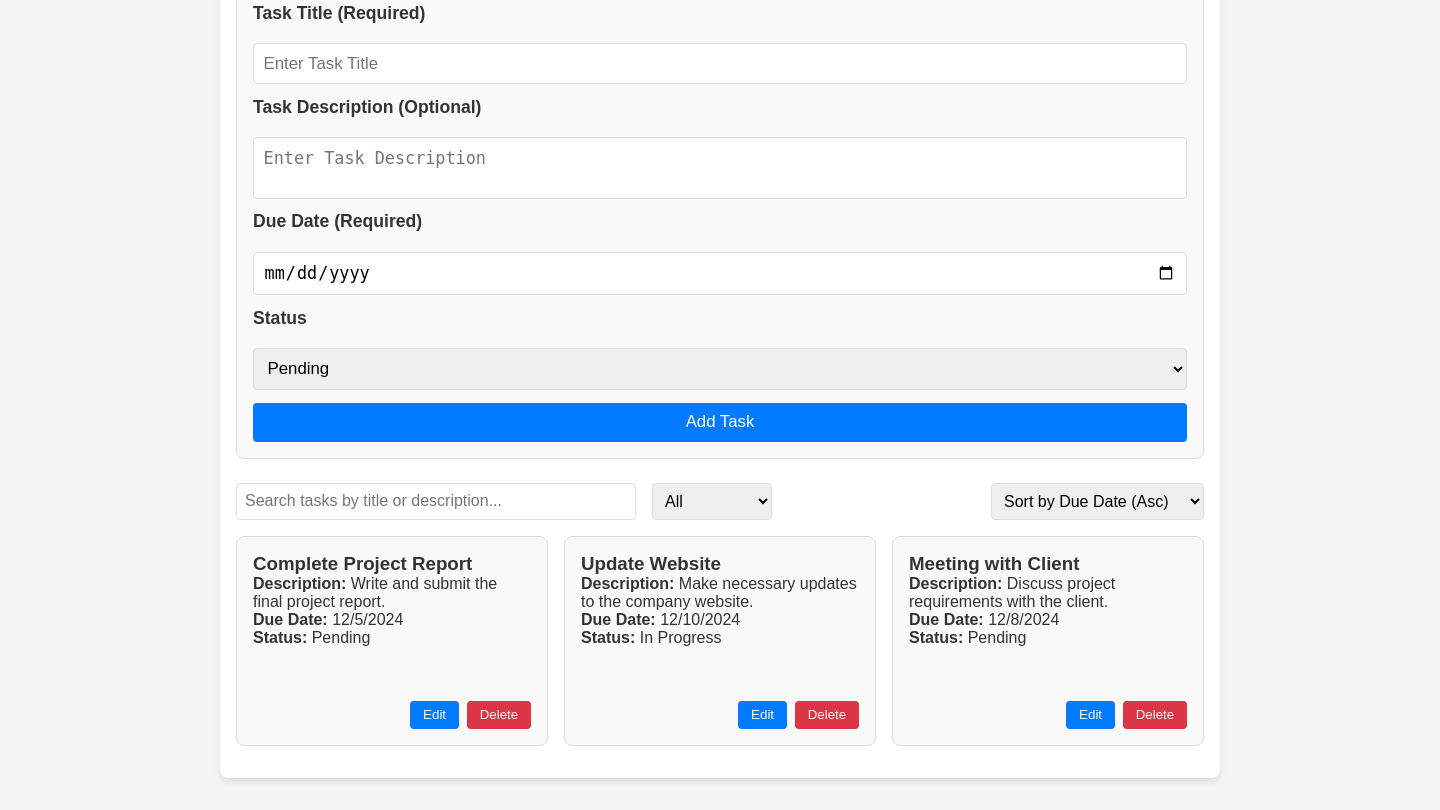
App Component › opens confirmation modal on task delete
(page scrolled)
Click the button "Delete" below "12/5/2024": click(499, 715) [467,701,531,729]
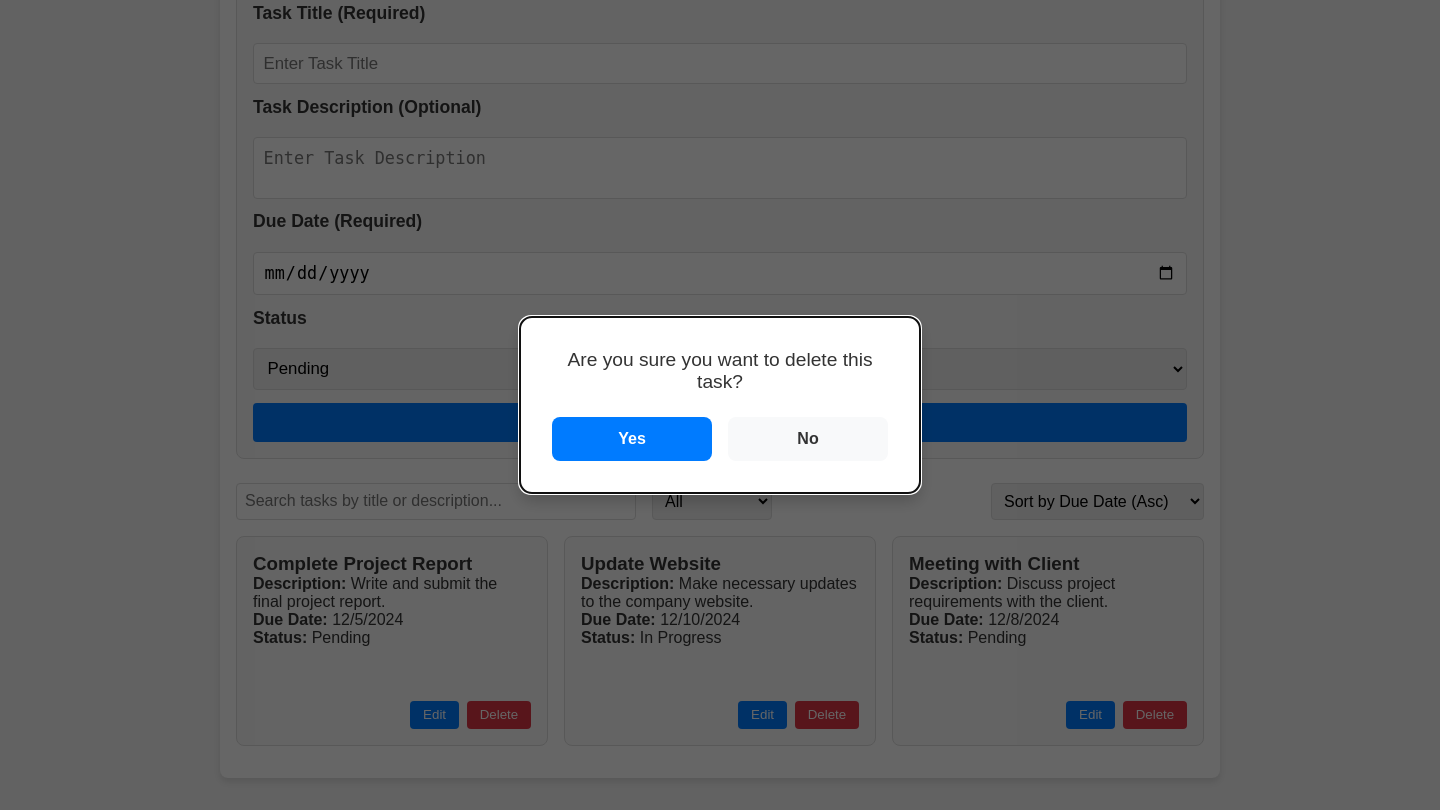
expect the text "Are you sure you want to delete this task?" is shown: met, box [552,349,888,393]
